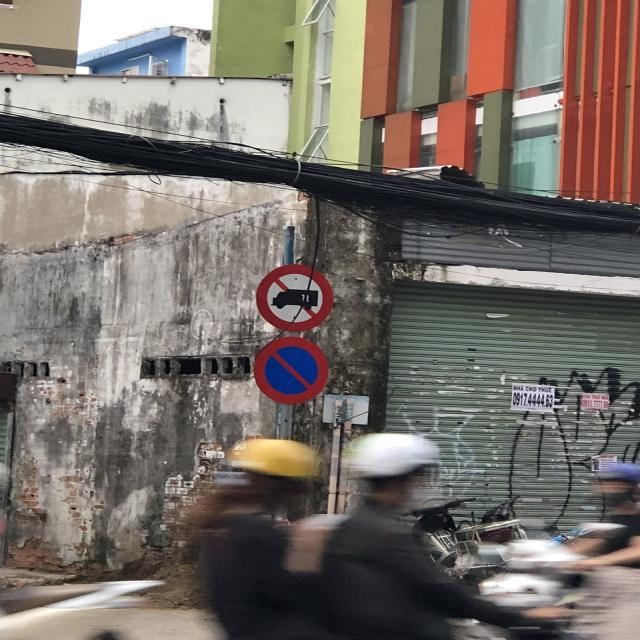Bien bao cam do xe: (247, 334, 337, 406)
Bien bao cam xe oto tai: (247, 259, 345, 334)
